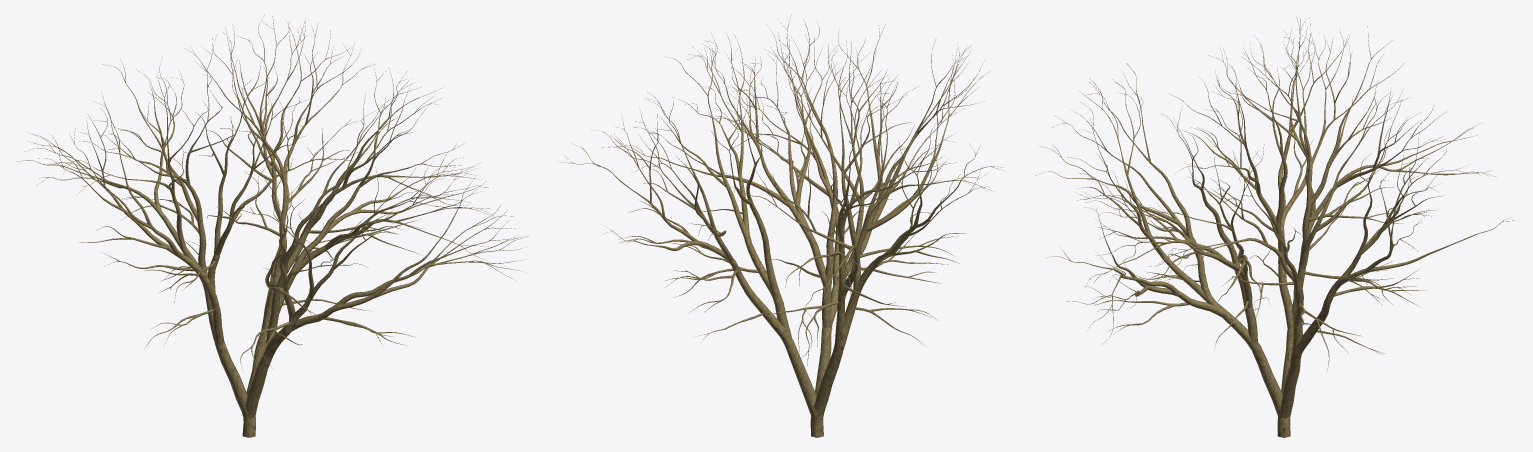
Rendered from basic_terrain_v3_tree_001_002.dae.
3 views of the same model, side by side, from view 1: azimuth 30°, elevation 25°; view 2: azimuth 150°, elevation 25°; view 3: azimuth 270°, elevation 25° (orthographic).
Parts seen in each view (by area): view 1: tree_001_002; view 2: tree_001_002; view 3: tree_001_002.
Boxes of the visible parts, left/top/right/bottom form: tree_001_002: left=16, top=14, right=528, bottom=437; tree_001_002: left=558, top=15, right=1003, bottom=437; tree_001_002: left=1035, top=17, right=1514, bottom=437.
Bounding box in the file's own units: 6.07 × 6.37 × 5.48.
1 material, 1 textured.
